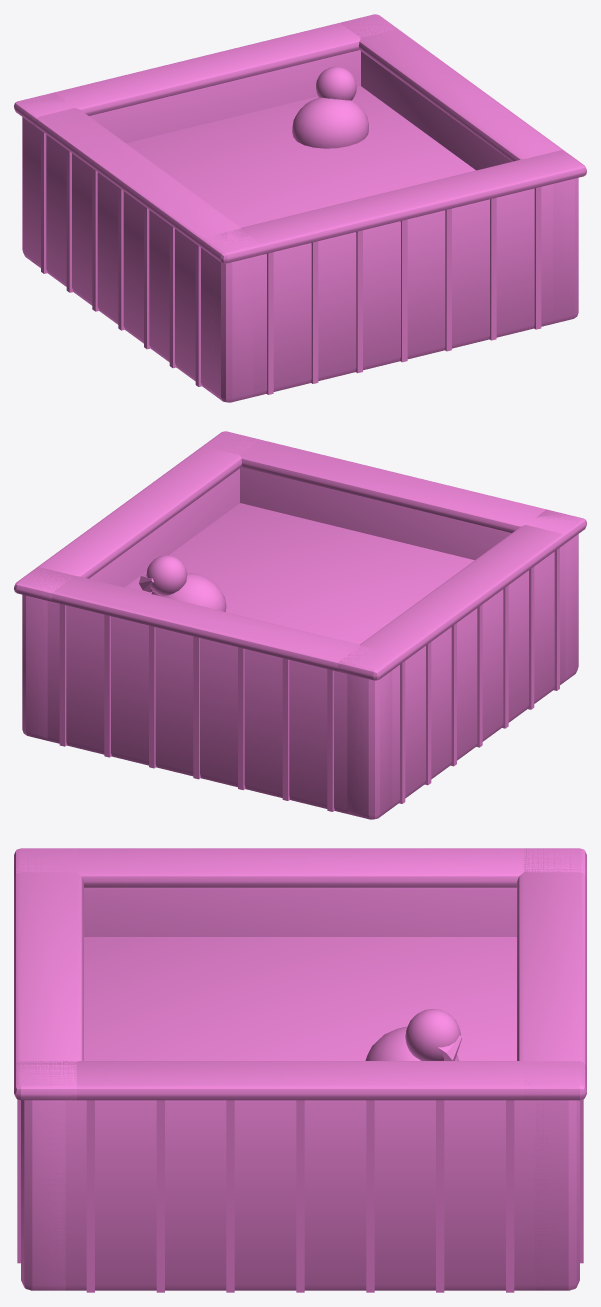
File: Parcel_HotTub.fbx
3 views of the same model, one above another, from view 1: azimuth 30°, elevation 25°; view 2: azimuth 150°, elevation 25°; view 3: azimuth 270°, elevation 25° (orthographic). The views are drawn at different scales.
Parts seen in each view (by area): view 1: Parcel; view 2: Parcel; view 3: Parcel.
Boxes of the visible parts, x1=… form: Parcel: x1=14, y1=14, x2=586, y2=402; Parcel: x1=14, y1=431, x2=586, y2=819; Parcel: x1=14, y1=848, x2=586, y2=1292.
Size of the model in its own units: 4.1 by 1.75 by 4.1.
Materials: 1 (1 with a texture image).
